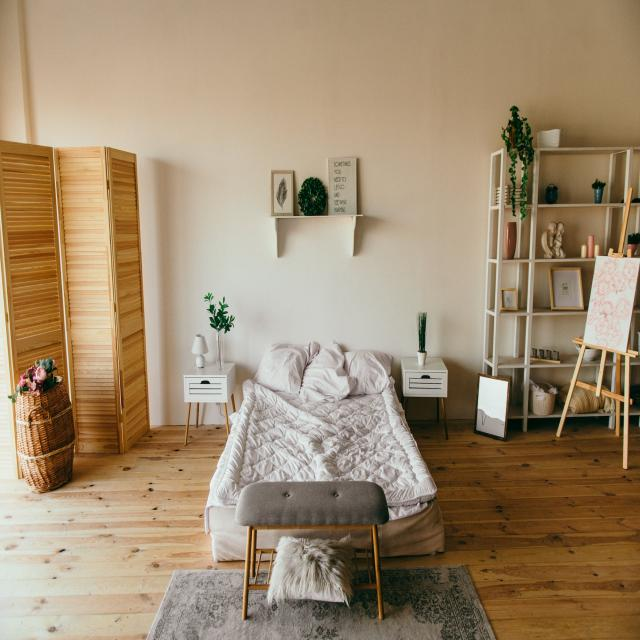Floor: (382, 417, 640, 639), (0, 422, 226, 640), (149, 563, 498, 640)
